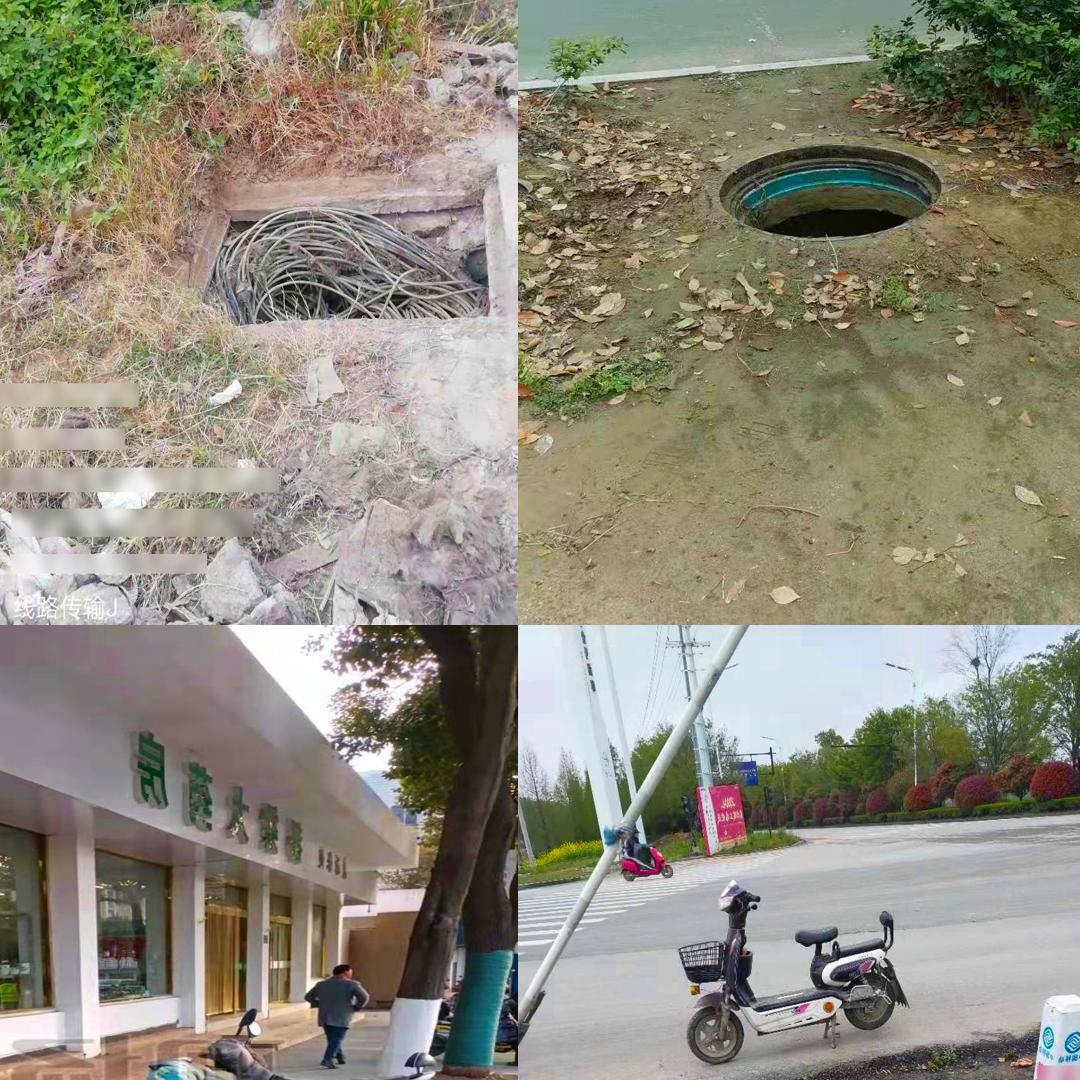lose: (180, 169, 510, 324), (702, 134, 954, 244)
